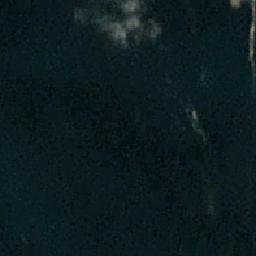cloud: (124, 1, 145, 31), (71, 9, 102, 22), (107, 22, 126, 42), (187, 108, 200, 129), (148, 19, 161, 38)
debris: (250, 1, 256, 69), (227, 1, 240, 10)
